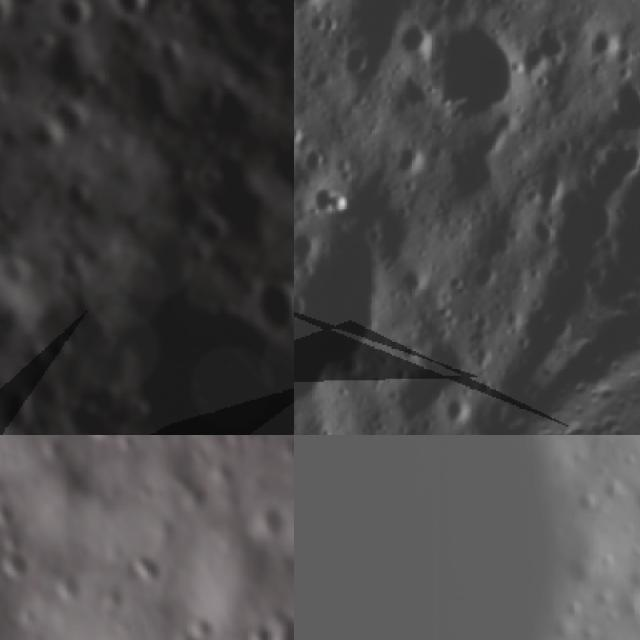crater: (391, 2, 546, 152), (359, 314, 499, 435), (98, 46, 198, 146), (509, 5, 586, 86), (419, 0, 556, 41), (377, 128, 451, 203), (236, 259, 294, 350), (0, 275, 46, 364), (73, 0, 189, 32), (41, 84, 100, 142), (0, 371, 52, 435), (430, 382, 490, 435), (294, 221, 340, 288), (51, 169, 104, 221), (240, 491, 292, 542), (391, 19, 442, 70), (582, 19, 630, 68), (520, 208, 568, 256), (44, 0, 98, 40), (130, 544, 168, 590), (56, 565, 90, 605), (294, 280, 316, 335), (17, 0, 97, 13), (0, 551, 37, 578), (168, 621, 214, 640), (247, 617, 273, 640)
